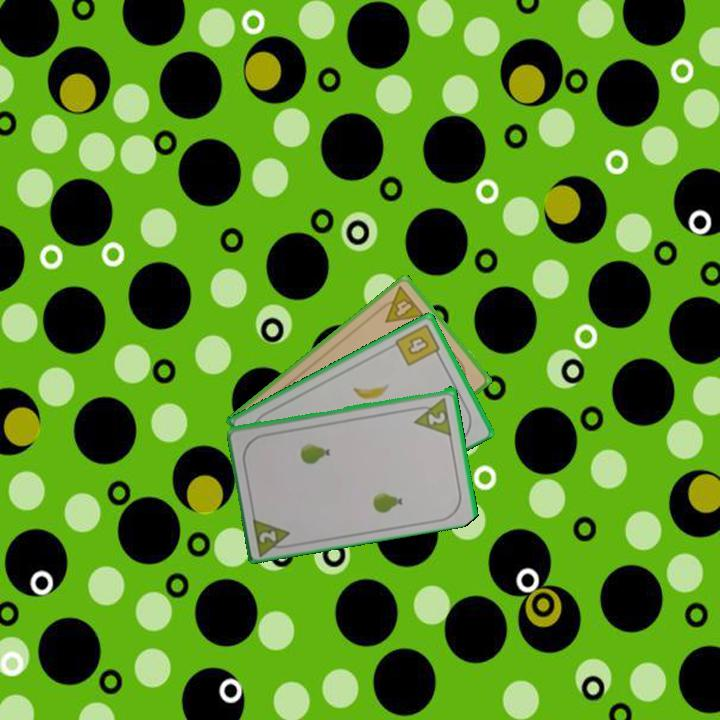2p: (249, 512, 296, 557), (409, 394, 455, 437)
4b: (391, 320, 444, 369)
4p: (373, 283, 428, 326)
